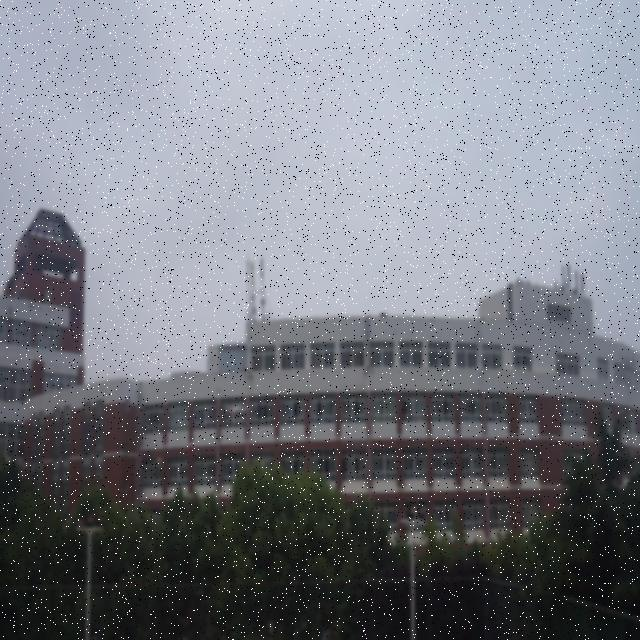UAV: (224, 403, 251, 423)
